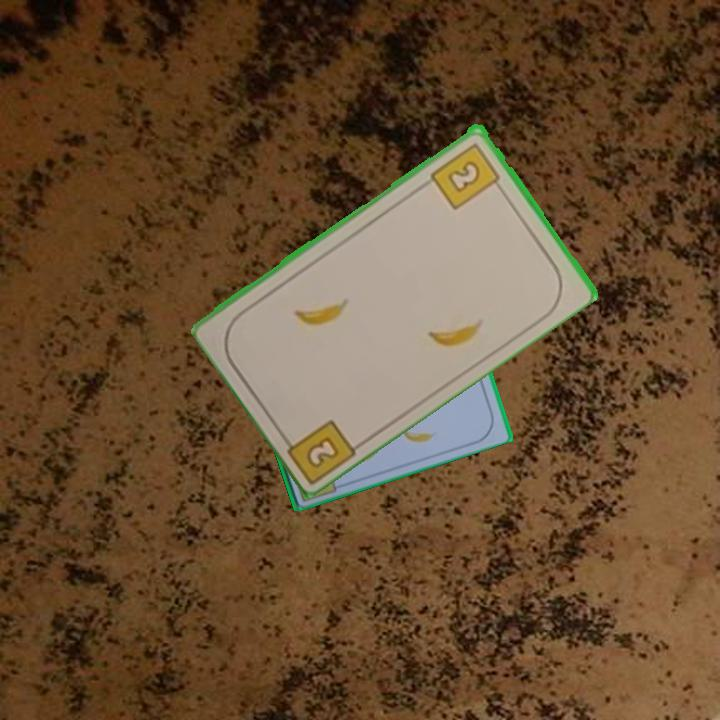2b: (276, 415, 360, 484), (427, 139, 506, 212)
